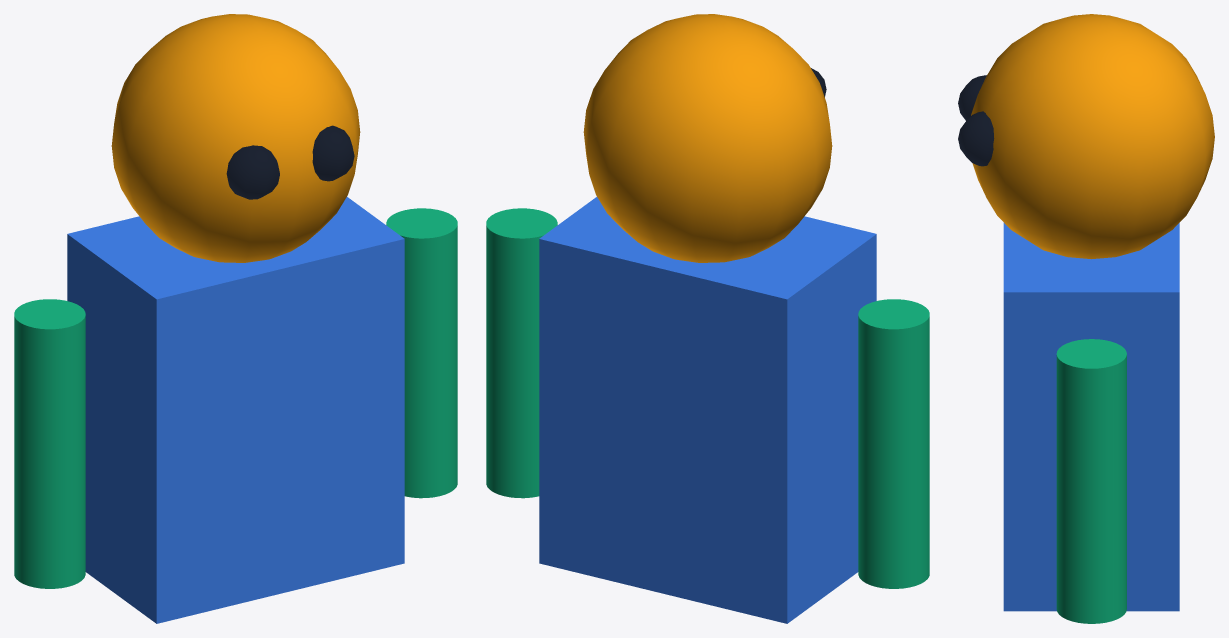
Rendered from test_character.glb.
The picture shows the model from 3 angles, left to right: view 1: azimuth 30°, elevation 25°; view 2: azimuth 150°, elevation 25°; view 3: azimuth 270°, elevation 25°; orthographic projection.
Visible parts, largest first — view 1: Torso, Head, RightArm, LeftArm, CharacterModel; view 2: Torso, Head, RightArm, LeftArm; view 3: Head, Torso, LeftArm, CharacterModel.
Part boxes in pixels (x1,y1,x2,y2): Torso: (67,197,404,623); Head: (111,14,360,262); RightArm: (14,299,85,588); LeftArm: (386,208,457,498); CharacterModel: (226,125,354,199); Torso: (539,197,876,623); Head: (583,14,832,262); RightArm: (858,299,929,588); LeftArm: (486,208,557,498); Head: (971,14,1214,259); Torso: (1003,222,1179,611); LeftArm: (1056,339,1126,623); CharacterModel: (958,75,994,166).
Size of the model in its own units: 1.4 by 1.65 by 0.73.
